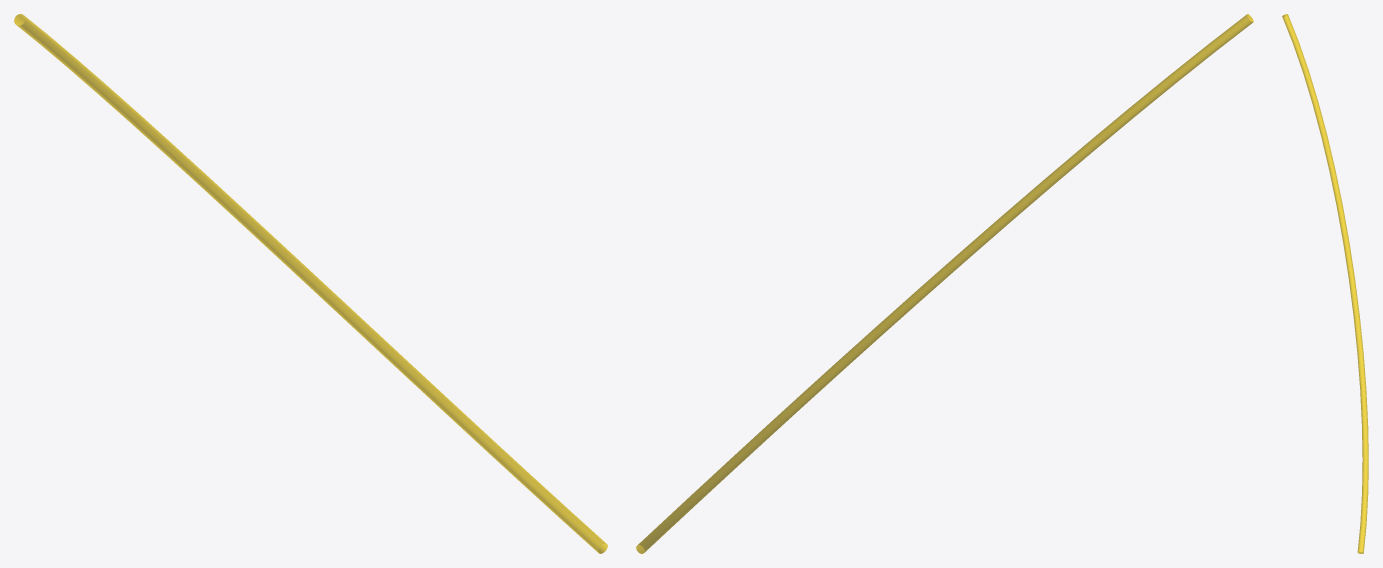
File: Event_100608114_track_64.fbx
The picture shows the model from 3 angles, left to right: view 1: azimuth 30°, elevation 25°; view 2: azimuth 150°, elevation 25°; view 3: azimuth 270°, elevation 25°; orthographic projection. The views are drawn at different scales.
Parts seen in each view (by area): view 1: Model; view 2: Model; view 3: Model.
Part boxes in pixels (<box>): Model: <box>14,14,607,553</box>; Model: <box>636,14,1253,553</box>; Model: <box>1282,14,1368,553</box>.
Size of the model in its own units: 2.47 by 2.66 by 0.5506.
